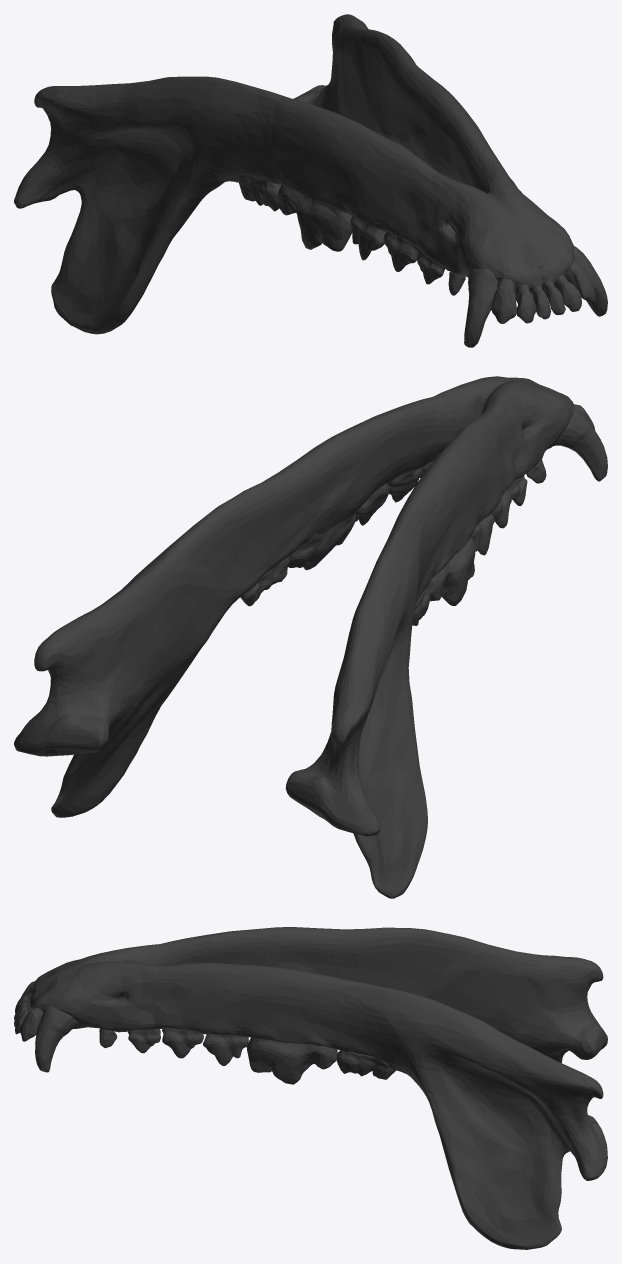
File: b_mandible.glb
3 views of the same model, one above another, from view 1: azimuth 30°, elevation 25°; view 2: azimuth 150°, elevation 25°; view 3: azimuth 270°, elevation 25° (orthographic). The views are drawn at different scales.
Visible parts, largest first — view 1: b_mandible; view 2: b_mandible; view 3: b_mandible.
Boxes of the visible parts, bbox=[...] form: b_mandible: bbox=[14, 14, 607, 347]; b_mandible: bbox=[14, 376, 607, 898]; b_mandible: bbox=[14, 927, 607, 1249].
Size of the model in its own units: 0.0263 by 0.0204 by 0.0462.
1 material, 1 textured.
